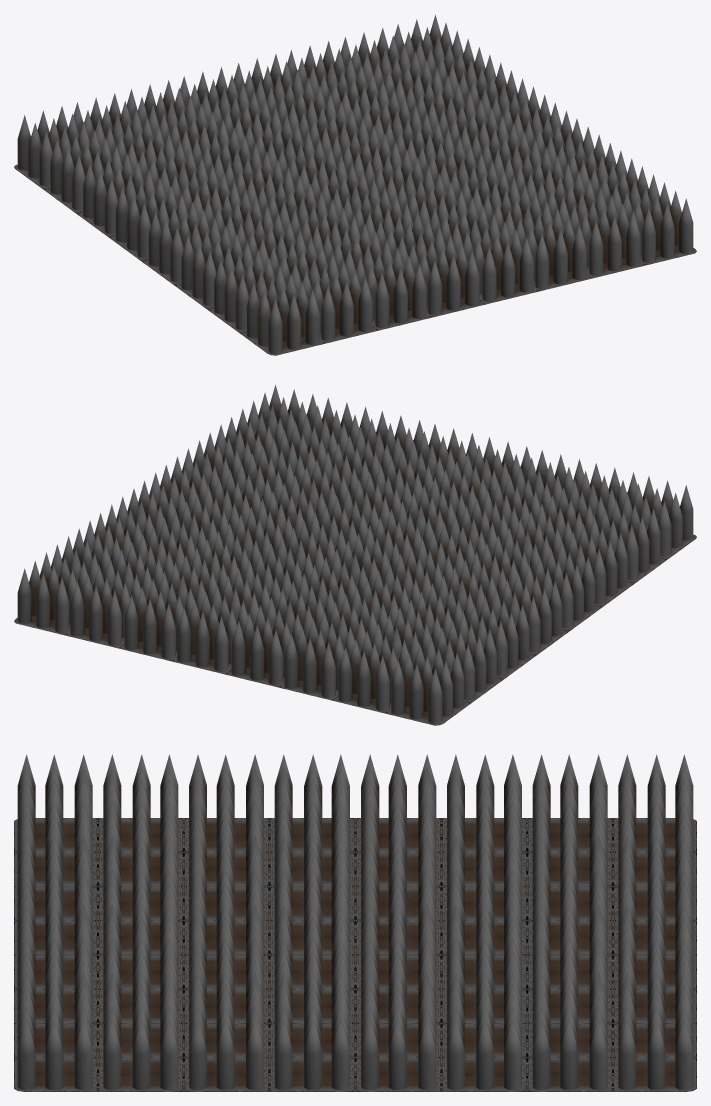
File: Spike_8x8.fbx
The picture shows the model from 3 angles, top to bottom: view 1: azimuth 30°, elevation 25°; view 2: azimuth 150°, elevation 25°; view 3: azimuth 270°, elevation 25°; orthographic projection. The views are drawn at different scales.
Visible parts, largest first — view 1: pCylinder10; view 2: pCylinder10; view 3: pCylinder10.
Boxes of the visible parts, left/top/right/bottom form: pCylinder10: left=14, top=15, right=696, bottom=355; pCylinder10: left=14, top=385, right=696, bottom=725; pCylinder10: left=14, top=754, right=696, bottom=1091.
Bounding box in the file's own units: 4.56 × 0.5391 × 4.81.
Materials: 1 (1 with a texture image).
